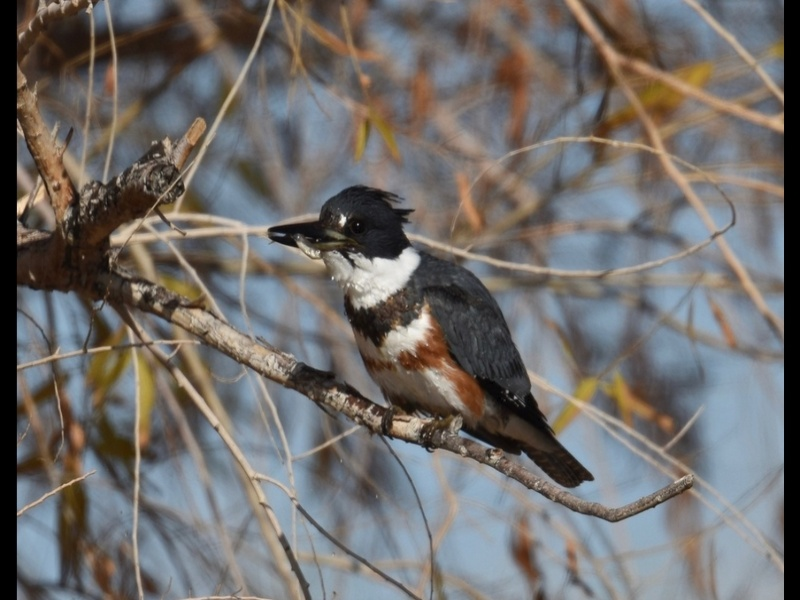kingfisher: (266, 184, 595, 491)
